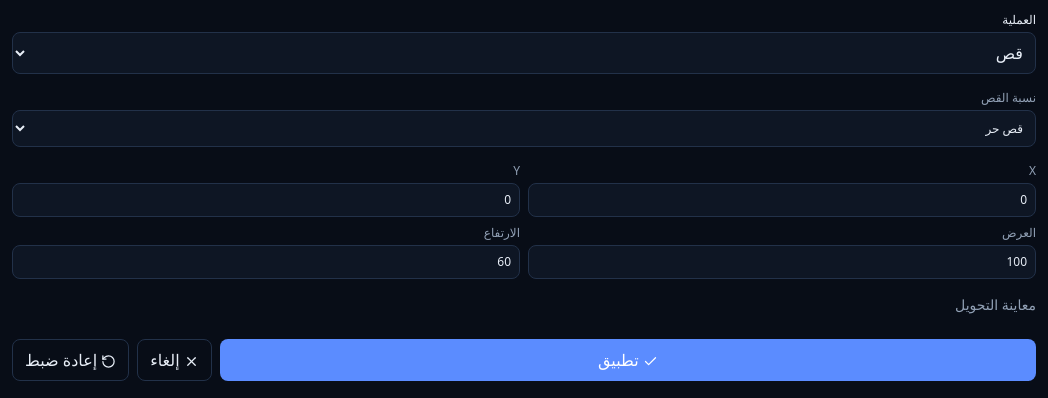
Test: renders unified transform error
The width and height of the screenshot is (1048, 398).
Click the button "تطبيق" at (628, 360), box [220, 339, 1036, 381]
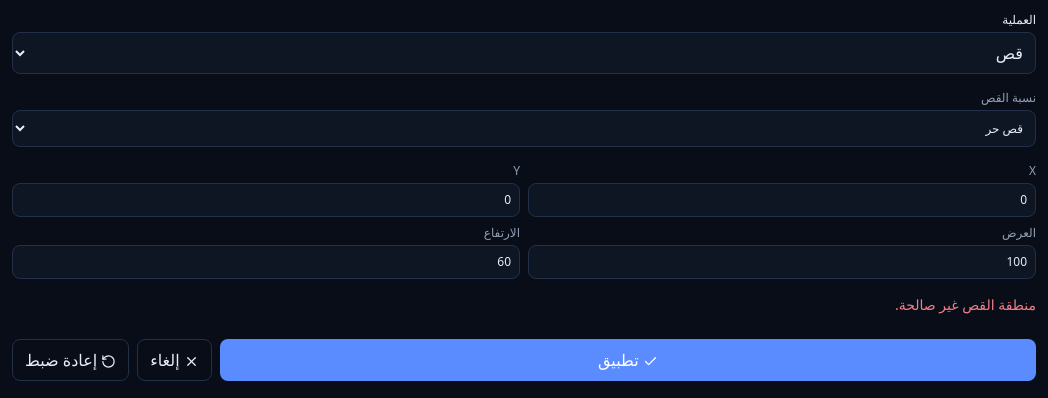
Expected: the message reads "منطقة القص غير صالحة.", [895, 295, 1036, 314]
